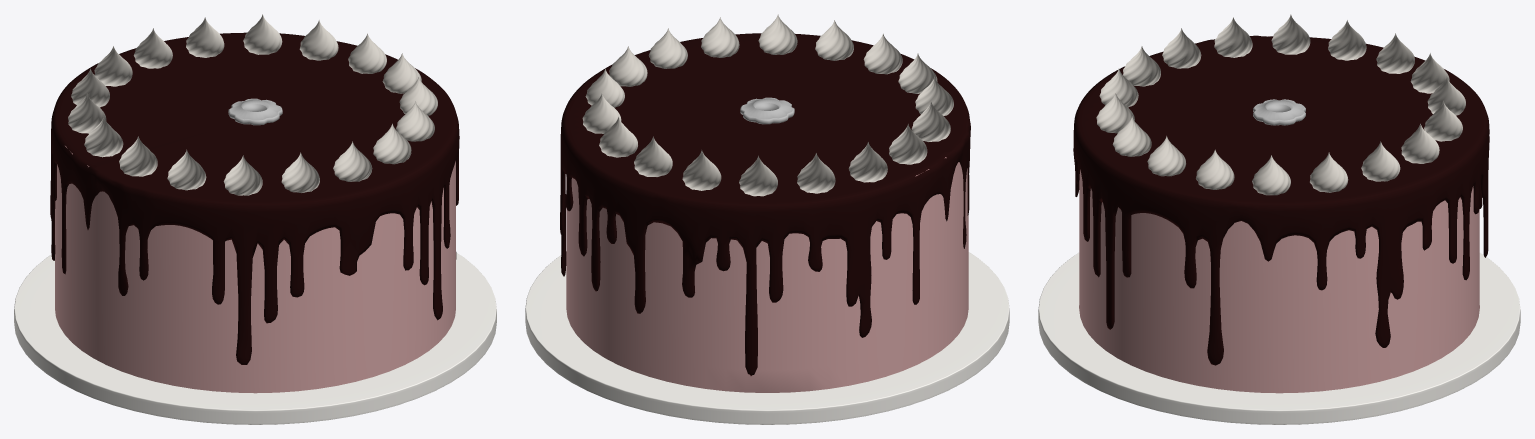
The model's file is cake.obj.
3 views of the same model, side by side, from view 1: azimuth 30°, elevation 25°; view 2: azimuth 150°, elevation 25°; view 3: azimuth 270°, elevation 25° (orthographic).
Parts seen in each view (by area): view 1: obj9, obj7, obj11, obj21, obj25, obj18, obj22, obj24, obj3, obj4, obj5, obj16 (+10 smaller); view 2: obj9, obj7, obj11, obj21, obj2, obj14, obj17, obj23, obj15, obj22, obj13, obj3 (+10 smaller); view 3: obj9, obj7, obj11, obj21, obj26, obj5, obj25, obj12, obj2, obj15, obj13, obj3 (+10 smaller).
Boxes of the visible parts, bbox=[...] form: obj9: bbox=[50, 32, 459, 364]; obj7: bbox=[55, 146, 455, 393]; obj11: bbox=[14, 252, 496, 424]; obj21: bbox=[228, 98, 282, 125]; obj25: bbox=[167, 149, 206, 190]; obj18: bbox=[223, 155, 262, 195]; obj22: bbox=[133, 28, 172, 68]; obj24: bbox=[119, 136, 157, 176]; obj3: bbox=[243, 14, 282, 54]; obj4: bbox=[186, 17, 224, 57]; obj5: bbox=[299, 20, 338, 60]; obj16: bbox=[333, 141, 372, 181]; obj9: bbox=[560, 33, 970, 375]; obj7: bbox=[566, 157, 968, 392]; obj11: bbox=[525, 252, 1009, 424]; obj21: bbox=[740, 97, 794, 124]; obj2: bbox=[848, 142, 887, 182]; obj14: bbox=[758, 14, 797, 54]; obj17: bbox=[863, 33, 902, 74]; obj23: bbox=[739, 155, 777, 196]; obj15: bbox=[701, 17, 739, 57]; obj22: bbox=[682, 150, 721, 190]; obj13: bbox=[648, 28, 687, 68]; obj3: bbox=[599, 117, 637, 157]; obj9: bbox=[1073, 35, 1489, 365]; obj7: bbox=[1079, 36, 1479, 393]; obj11: bbox=[1038, 253, 1520, 424]; obj21: bbox=[1253, 99, 1305, 125]; obj26: bbox=[1271, 14, 1310, 54]; obj5: bbox=[1361, 141, 1400, 181]; obj25: bbox=[1162, 28, 1201, 68]; obj12: bbox=[1252, 155, 1290, 195]; obj2: bbox=[1328, 20, 1366, 60]; obj15: bbox=[1147, 136, 1186, 176]; obj13: bbox=[1196, 149, 1234, 189]; obj3: bbox=[1401, 123, 1439, 163].
Size of the model in its own units: 60.39 by 32.91 by 60.39.
Materials: 5 (5 with a texture image).
